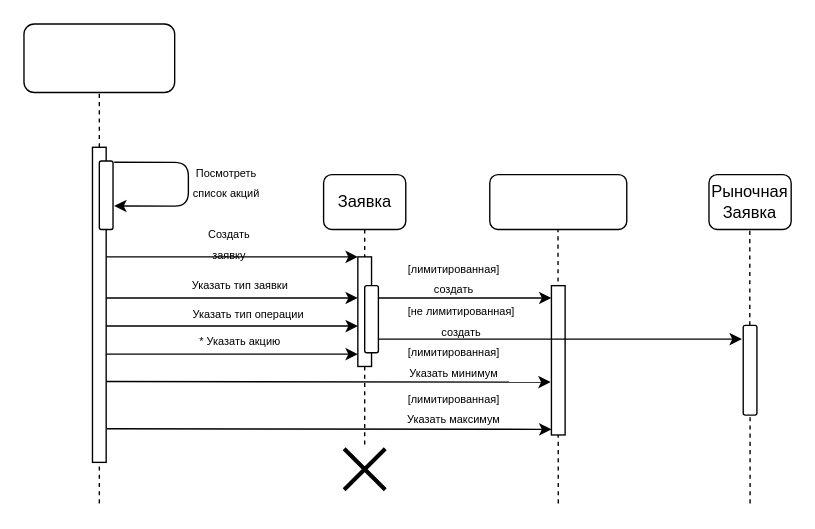
Image size: 815x529. Some labels were removed from this diagram. Each missing label, with the box of its shape:
Лимитированная Заявка: (488, 173, 627, 229)
Пользователь: (23, 23, 175, 92)
